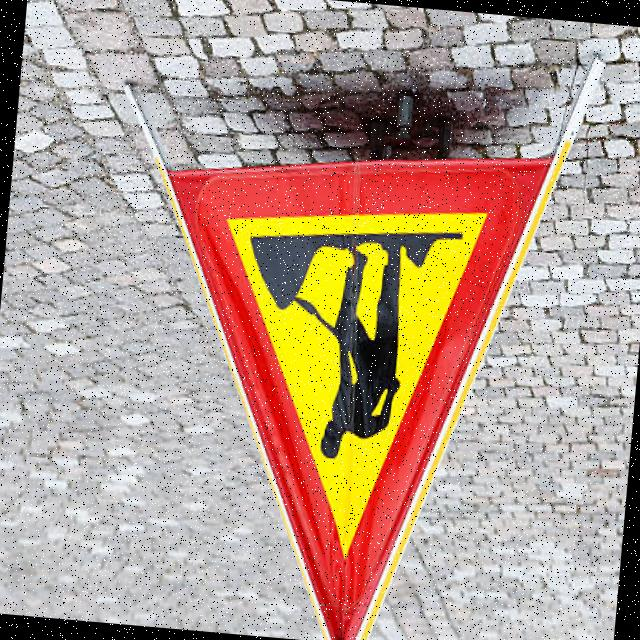road_work: (131, 121, 562, 640)
